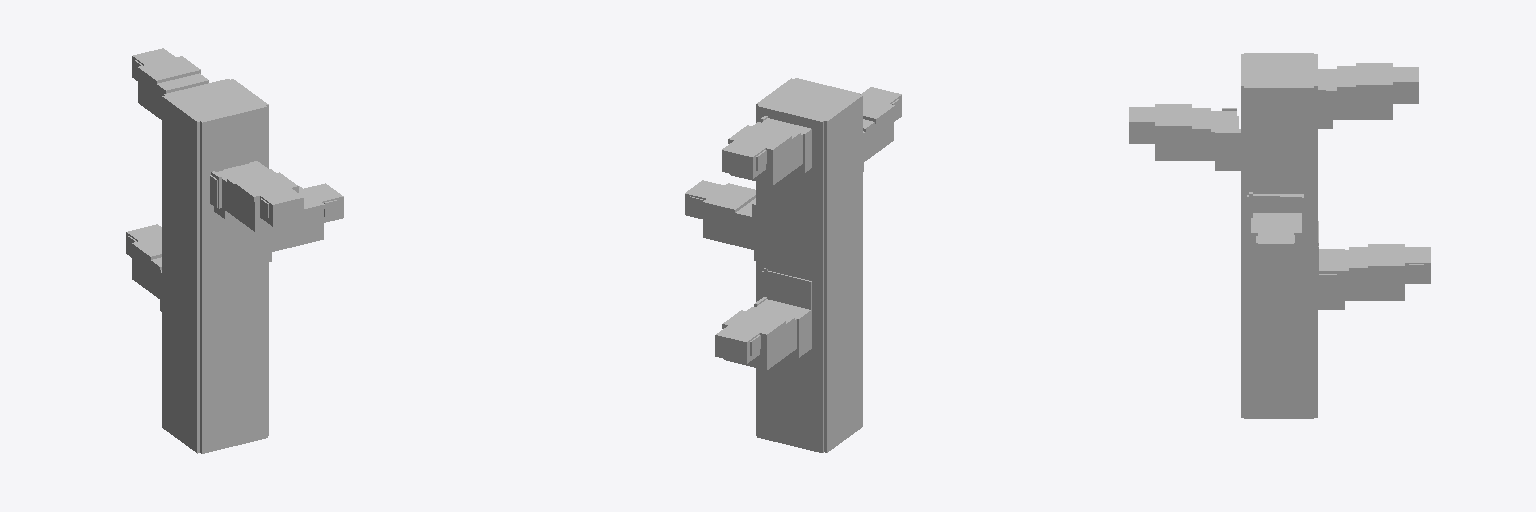
The model's file is _Tree 1.obj.
3 renders of one model, left to right at view 1: azimuth 30°, elevation 25°; view 2: azimuth 150°, elevation 25°; view 3: azimuth 270°, elevation 25°, orthographic.
Parts seen in each view (by area): view 1: object 1; view 2: object 1; view 3: object 1.
Part boxes in pixels (x1,y1,x2,y2): object 1: (126,48,343,453); object 1: (685,78,901,452); object 1: (1129,53,1430,418).
Bounding box in the file's own units: 10.3 × 21.3 × 17.6.